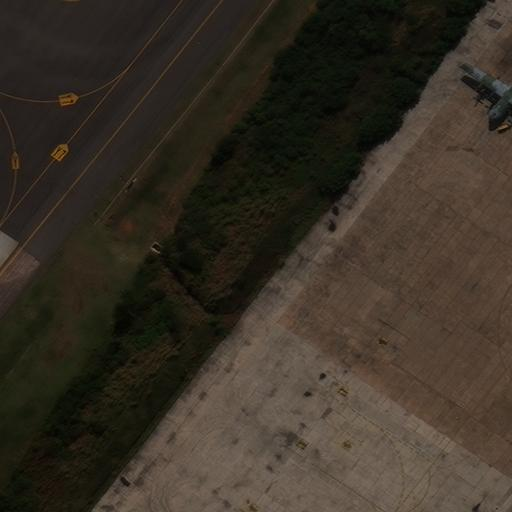Military Transport: (459, 64, 512, 122)
